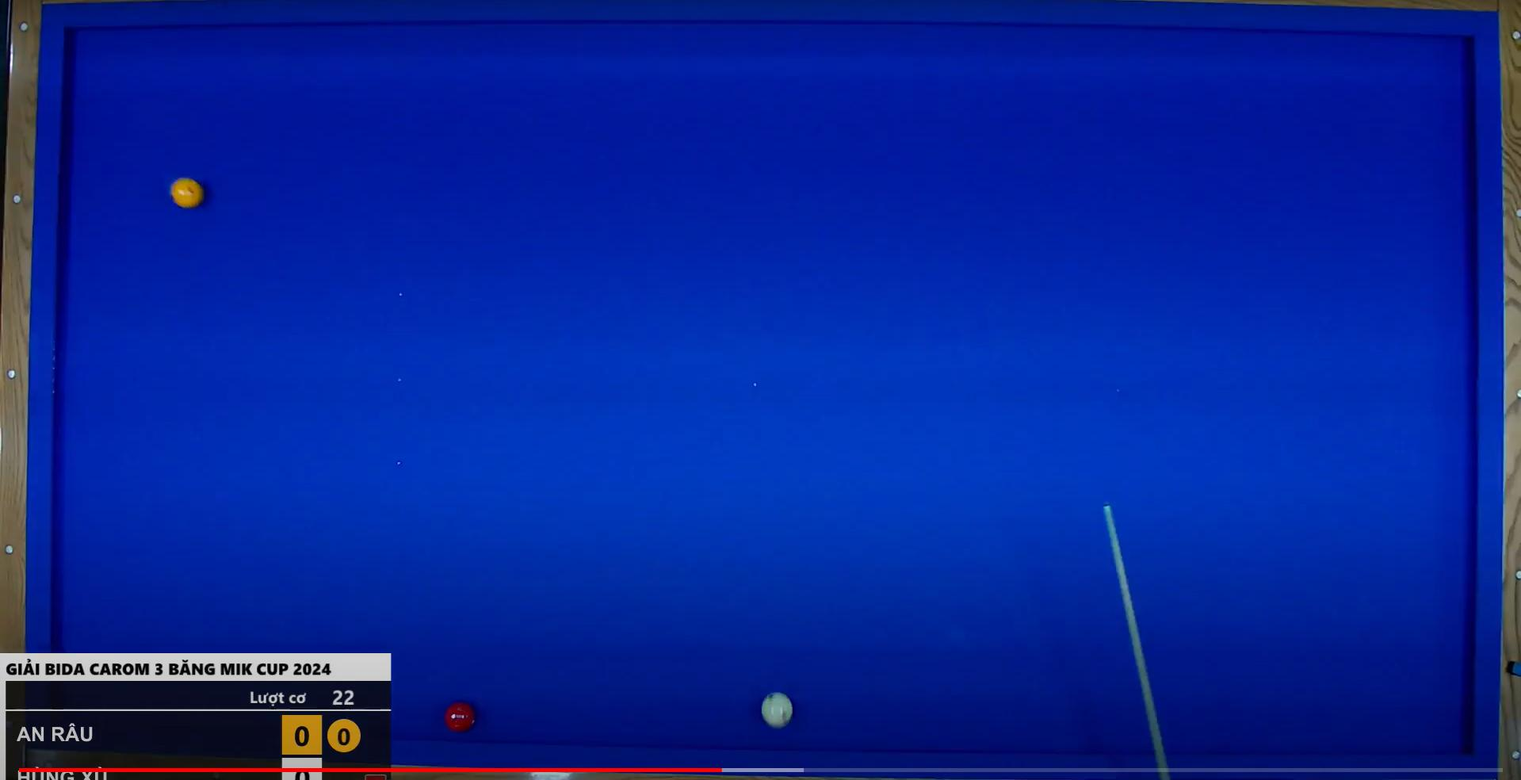red ball: (441, 696, 478, 737)
white ball: (756, 687, 797, 731)
yellow ball: (166, 174, 210, 217)
